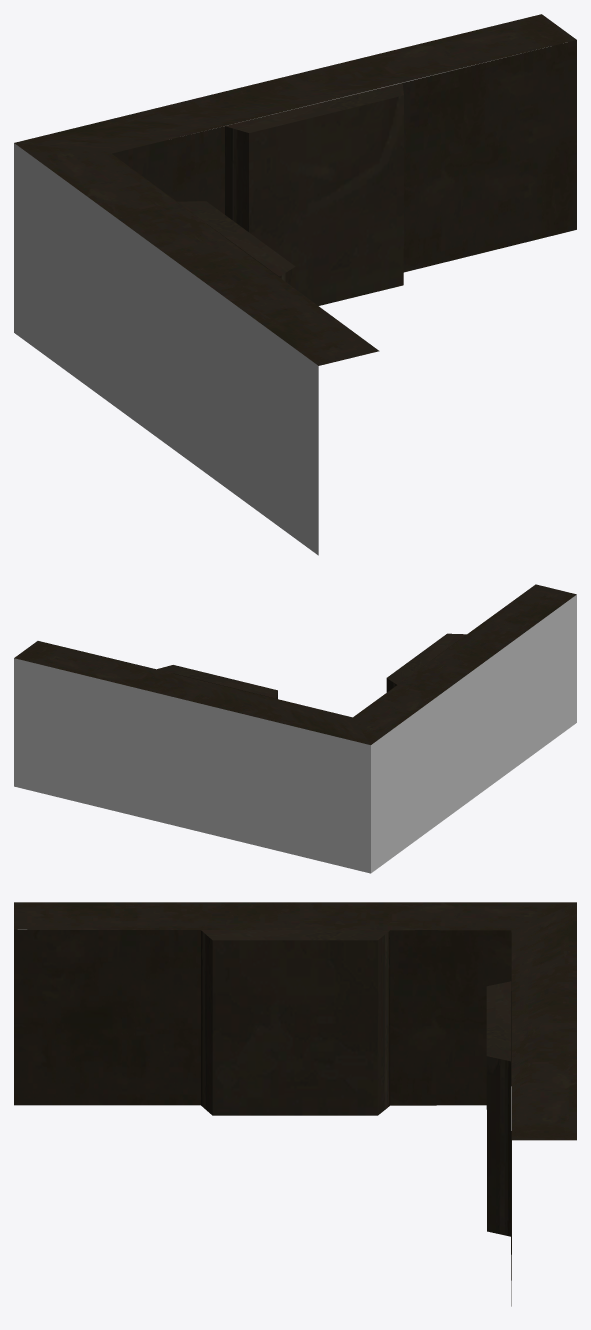
File: fortress_quarter_concave_02.fbx
The picture shows the model from 3 angles, top to bottom: view 1: azimuth 30°, elevation 25°; view 2: azimuth 150°, elevation 25°; view 3: azimuth 270°, elevation 25°; orthographic projection. The views are drawn at different scales.
Visible parts, largest first — view 1: fortress_quarter_concave_02-0; view 2: fortress_quarter_concave_02-0; view 3: fortress_quarter_concave_02-0.
Boxes of the visible parts, left/top/right/bottom form: fortress_quarter_concave_02-0: left=14, top=14, right=576, bottom=555; fortress_quarter_concave_02-0: left=14, top=584, right=576, bottom=873; fortress_quarter_concave_02-0: left=14, top=902, right=576, bottom=1306.
Size of the model in its own units: 4 by 1.38 by 4.
